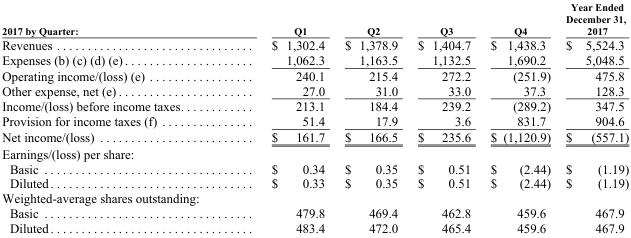table: (1, 1, 628, 235)
table column: (1, 1, 225, 235), (225, 1, 334, 235), (480, 1, 557, 235), (334, 1, 407, 235), (407, 1, 480, 235), (557, 1, 628, 235)
table column header: (1, 1, 628, 37)
table projected row header: (1, 144, 628, 160), (1, 190, 628, 205)
table row: (1, 1, 628, 37), (1, 82, 628, 98), (1, 128, 628, 144), (1, 144, 628, 160), (1, 37, 628, 52), (1, 52, 628, 67), (1, 67, 628, 82), (1, 98, 628, 113), (1, 113, 628, 128), (1, 160, 628, 175), (1, 175, 628, 190), (1, 190, 628, 205), (1, 205, 628, 220), (1, 220, 628, 235)
